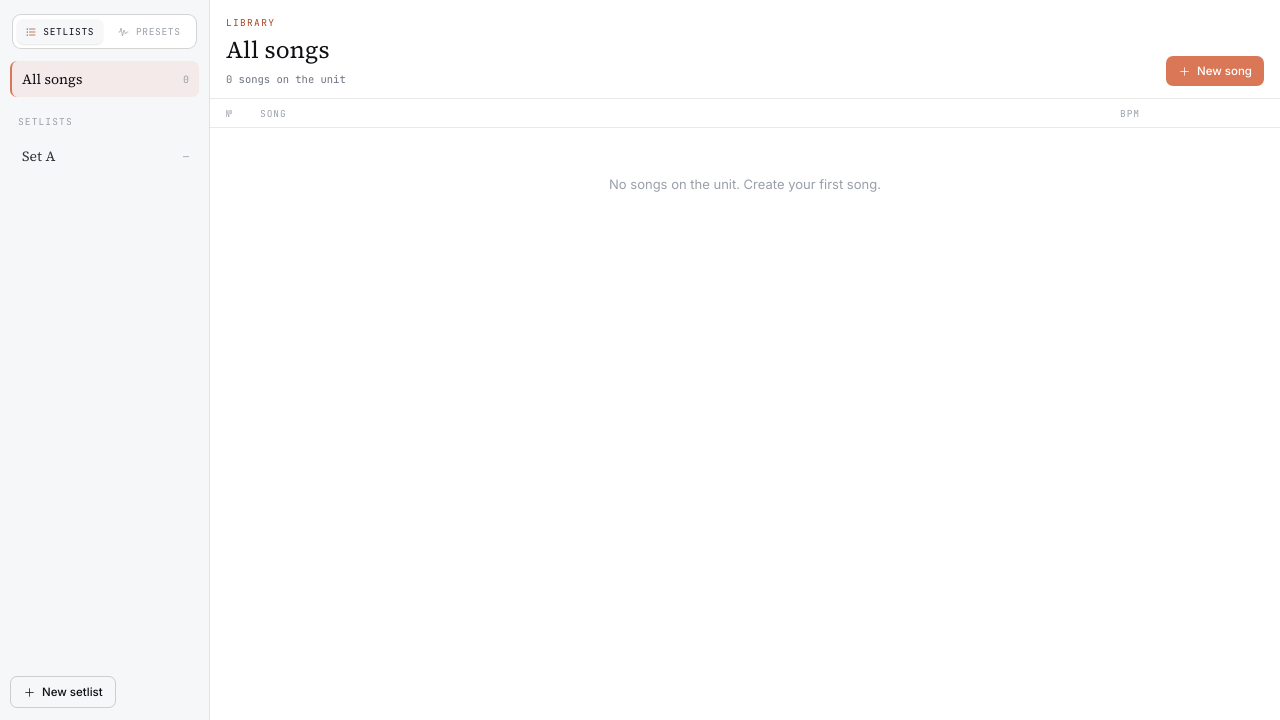
Test: SongsView (device-backed) › create-and-add from the picker is ONE create_song_full with addToSetlist
This screenshot has width=1280, height=720.
Expected: the button "New song" is shown, [1166,56,1264,86]
Step 1. Click the text "Set A" → (39, 156), box [22,146,55,166]
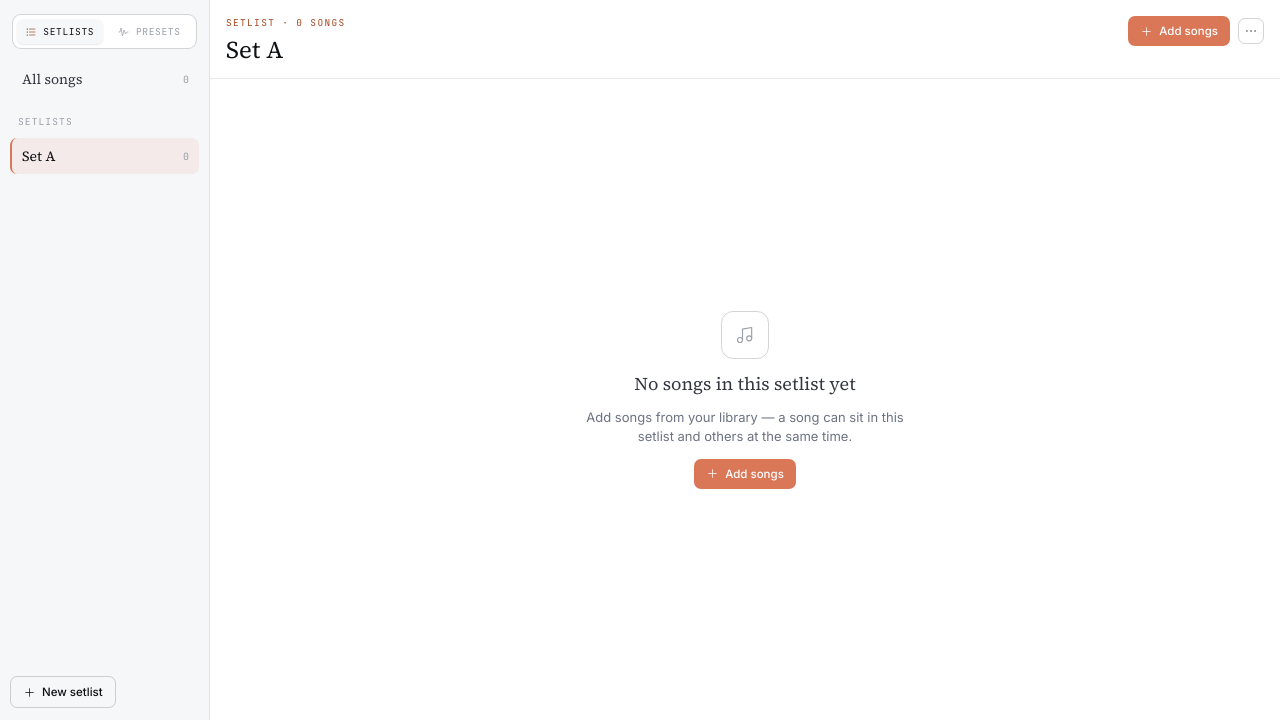
Result: the text "No songs in this setlist yet" is shown at [634,370,856,396]
Step 2. Click the button "Add songs" in the row of "· 0 songs" → (1179, 31), box [1128,16,1230,46]
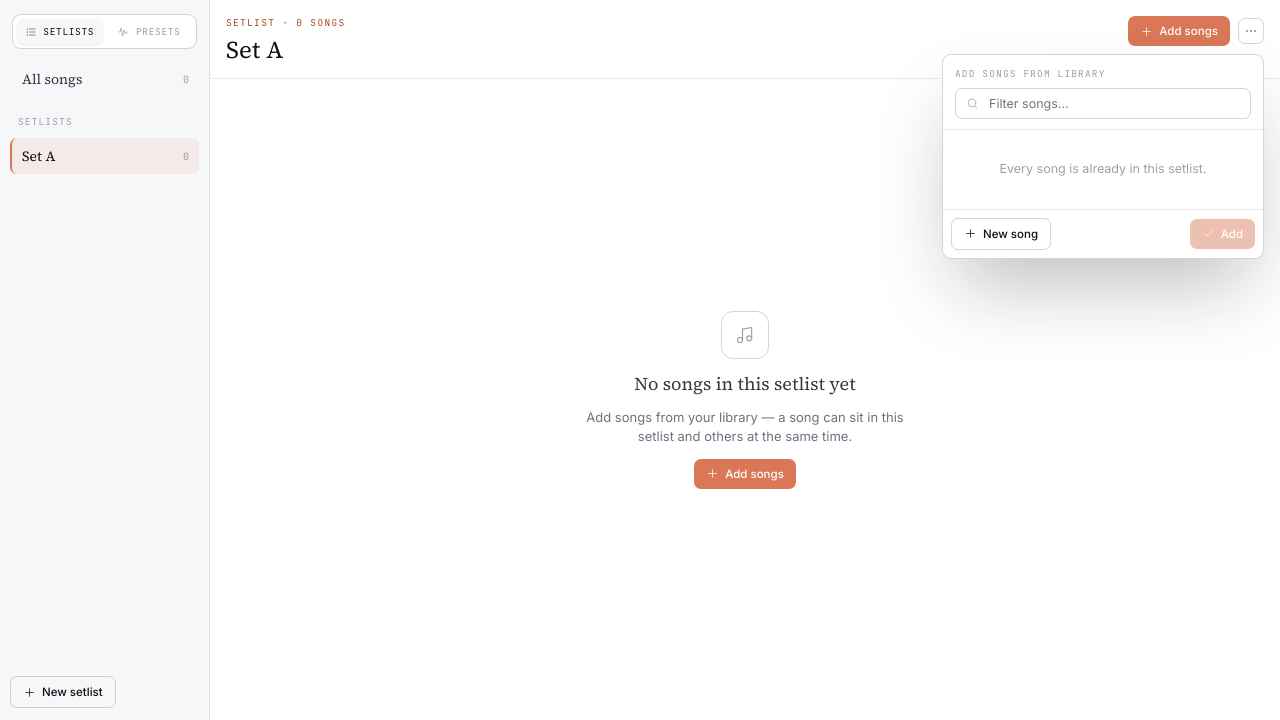
Result: the text "Add songs from library" is shown at [955,67,1106,80]
Step 3. Click the button "New song" → (1001, 234), box [951,218,1051,250]
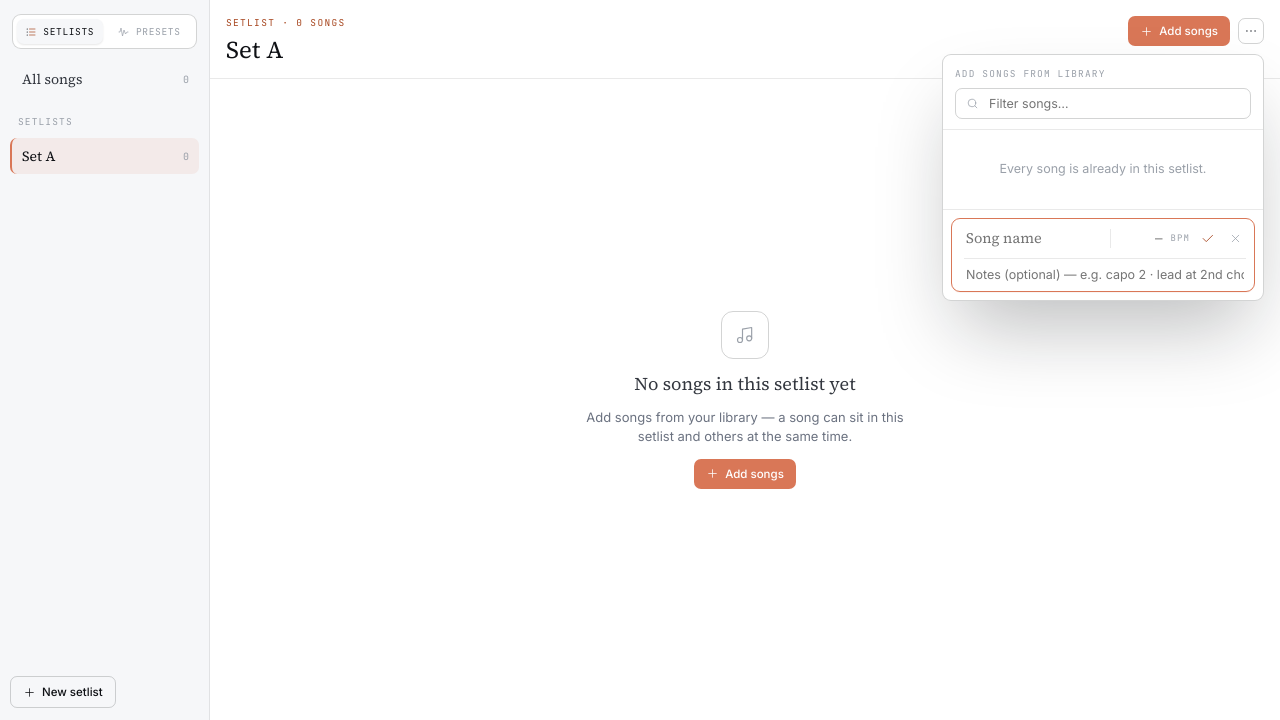
Step 4. Type "Fresh" into the field with placeholder "Song name" → (1032, 238), box [964,227,1100,249]
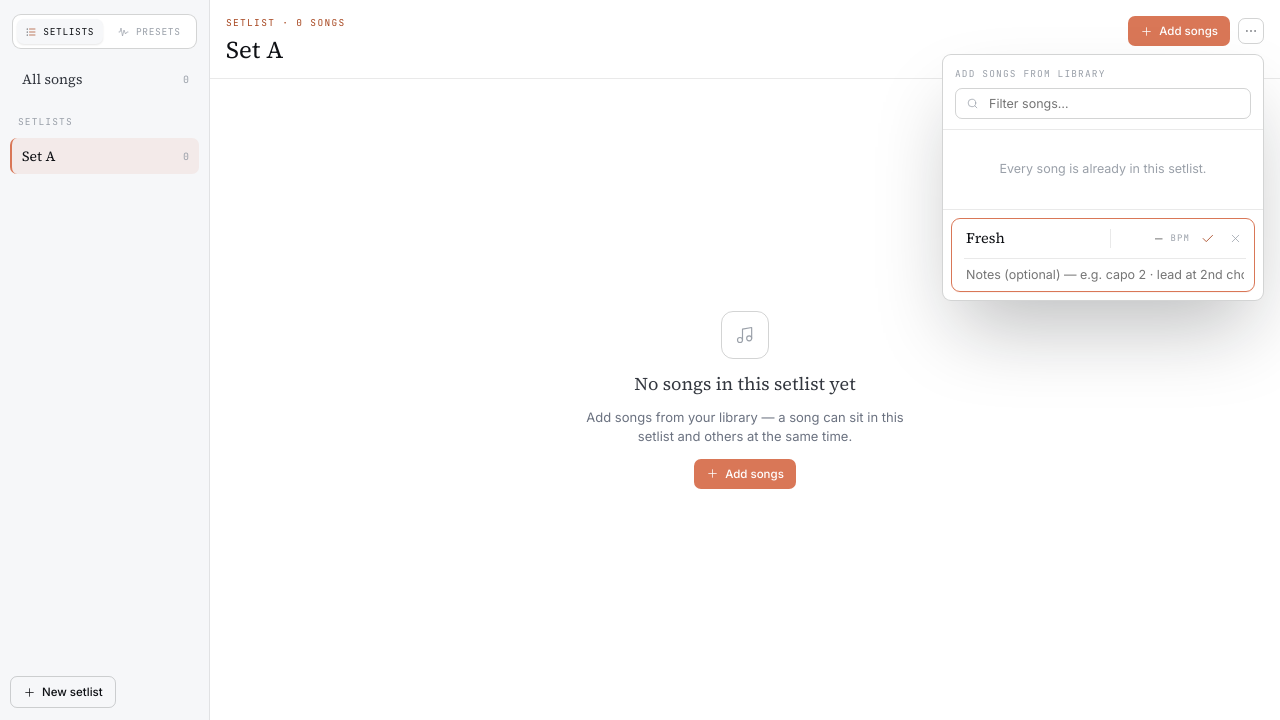
Step 5. Press Enter
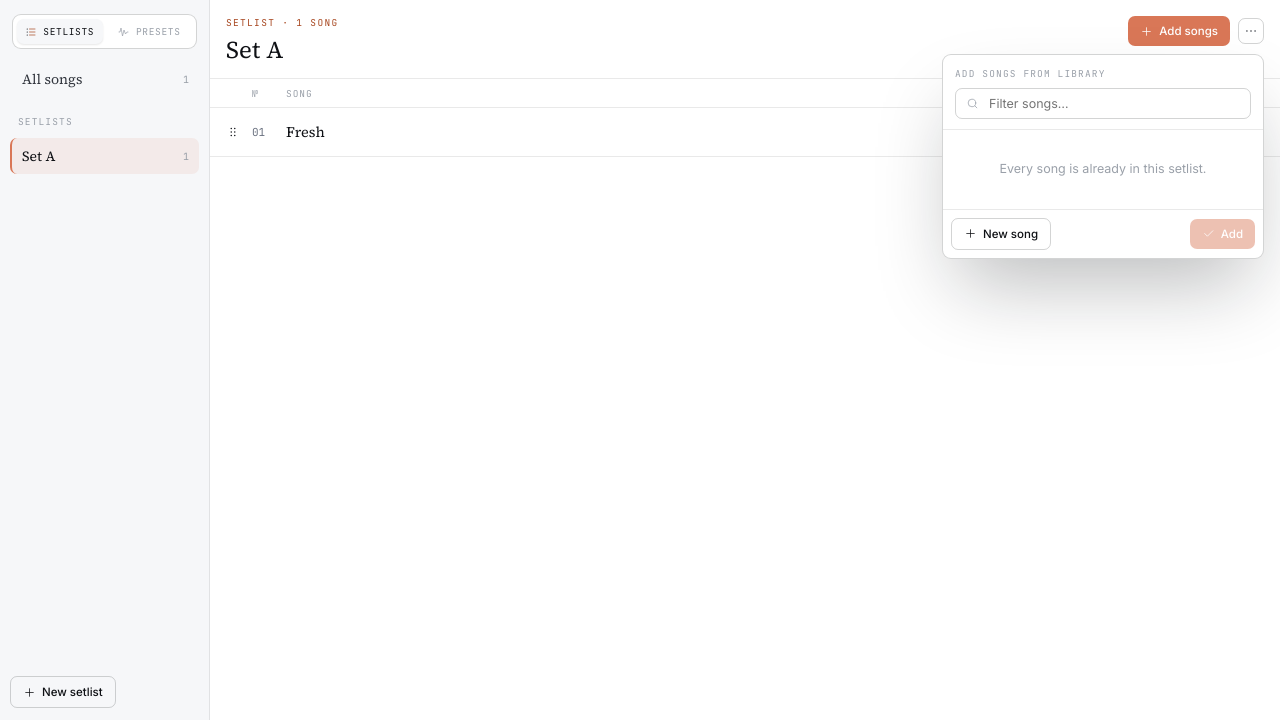
Result: the text "Fresh" is shown at [286,122,325,142]
